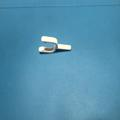u-shape: (38, 35, 72, 55)
